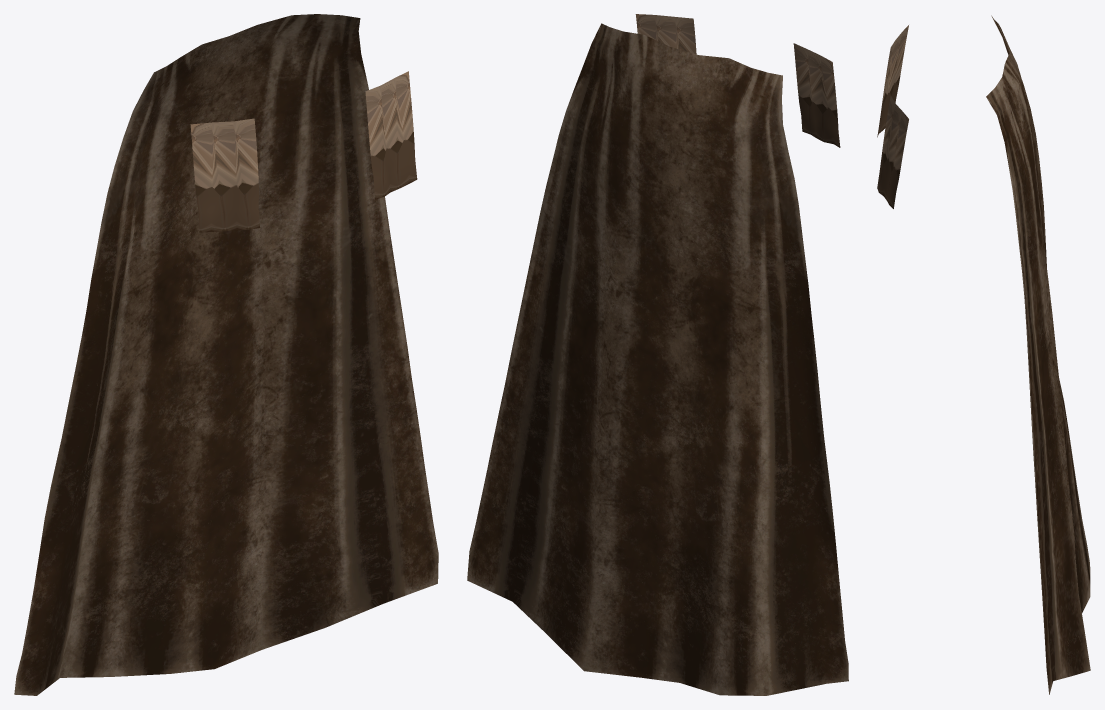
Rendered from clo_dunland_caerdh_pauldron_elite_cape_a.fbx.
3 views of the same model, side by side, from view 1: azimuth 30°, elevation 25°; view 2: azimuth 150°, elevation 25°; view 3: azimuth 270°, elevation 25° (orthographic). The views are drawn at different scales.
Parts seen in each view (by area): view 1: clo_dunland_caerdh_pauldron_elite_cape_a; view 2: clo_dunland_caerdh_pauldron_elite_cape_a; view 3: clo_dunland_caerdh_pauldron_elite_cape_a.
Part boxes in pixels (<box>): clo_dunland_caerdh_pauldron_elite_cape_a: <box>14,14,438,695</box>; clo_dunland_caerdh_pauldron_elite_cape_a: <box>467,14,848,695</box>; clo_dunland_caerdh_pauldron_elite_cape_a: <box>877,15,1090,694</box>.
Size of the model in its own units: 0.9531 by 0.4686 by 1.45.
1 material, 1 textured.
